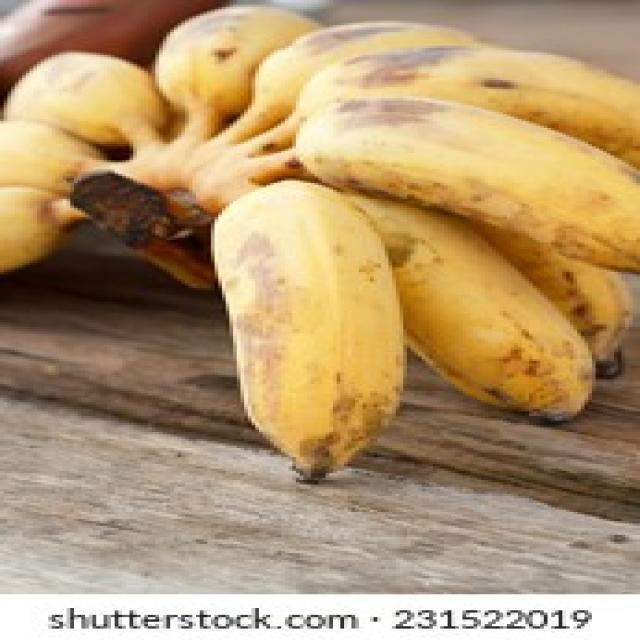banana: (0, 7, 640, 487)
